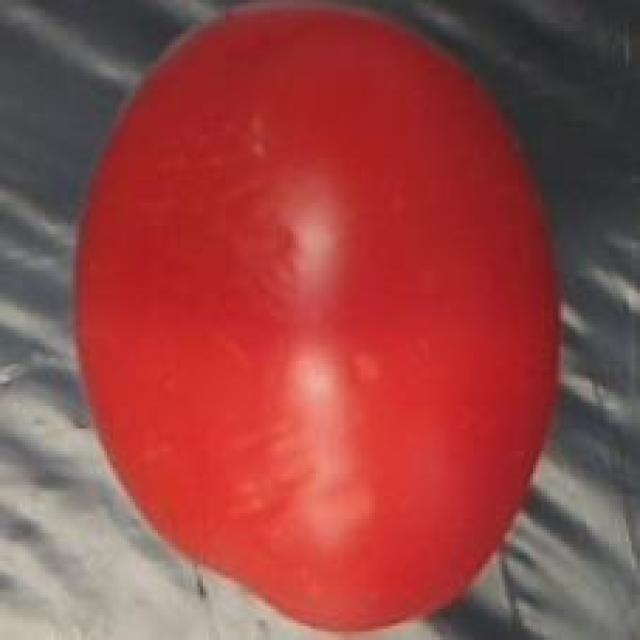ripe tomato: (62, 0, 589, 640)
